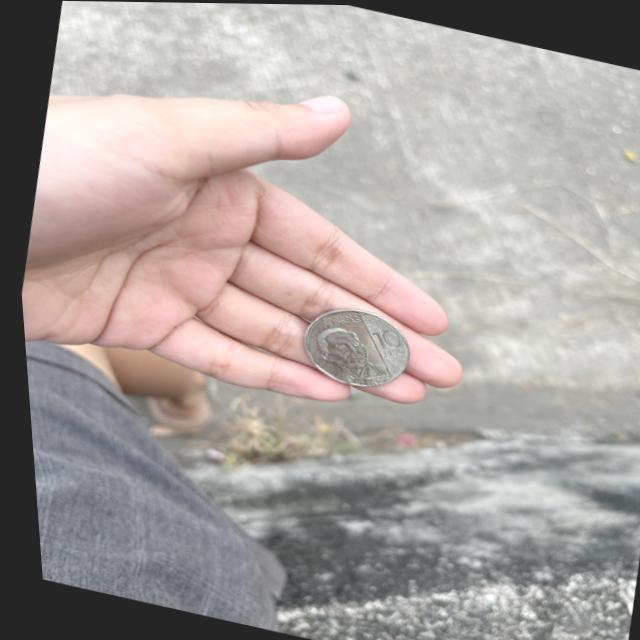10_New_Front: (357, 319, 406, 364)
